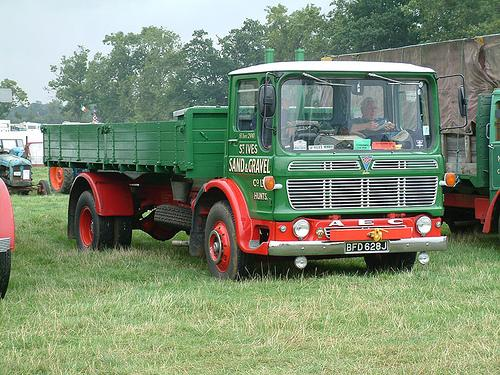truck: (39, 60, 469, 285)
